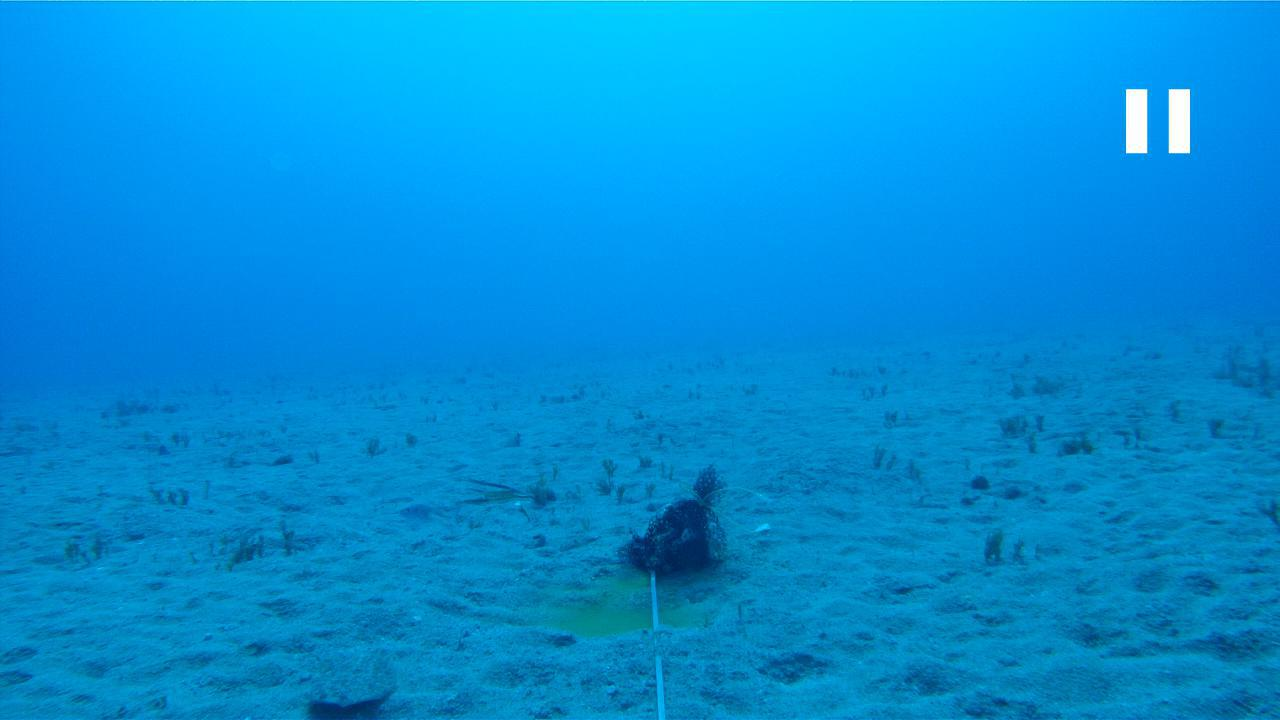bothus: (303, 647, 400, 713)
